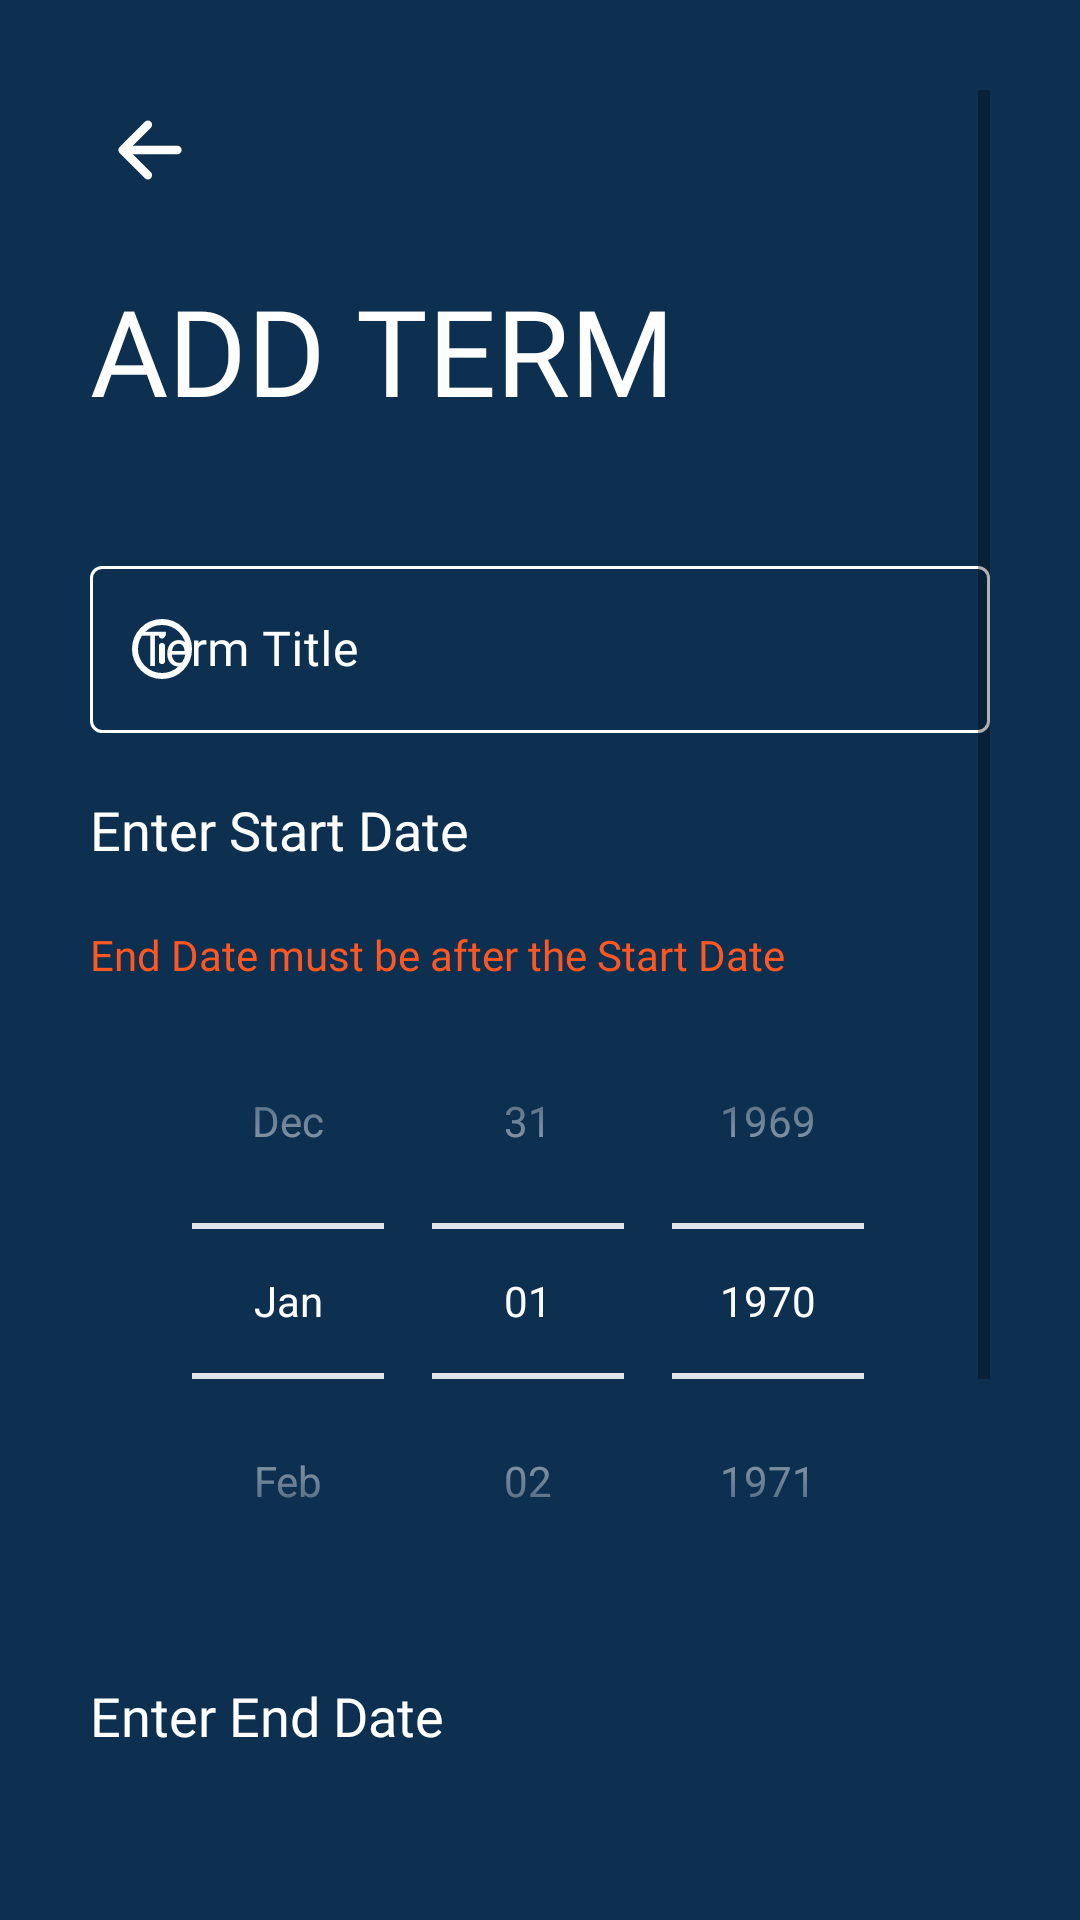

Icons on this 1080 x 1920 Android screen, each with its box as BBox(x1, y1, x2, y2):
arrow back: BBox(118, 120, 182, 180)
